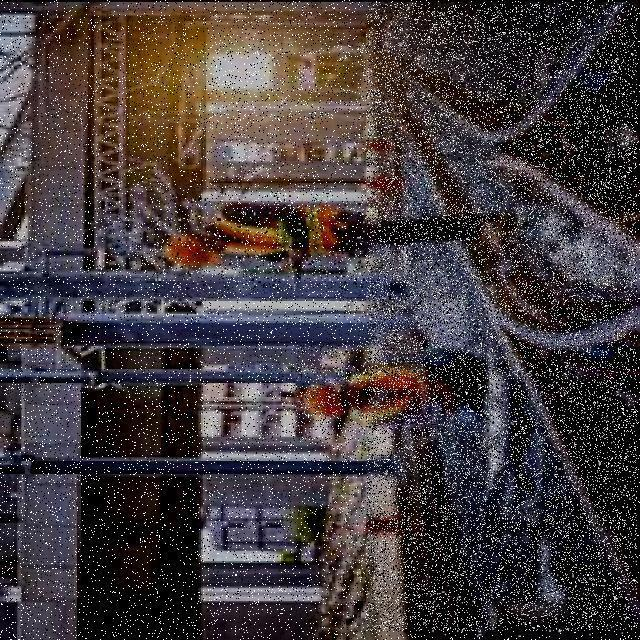rail: (369, 5, 638, 632)
